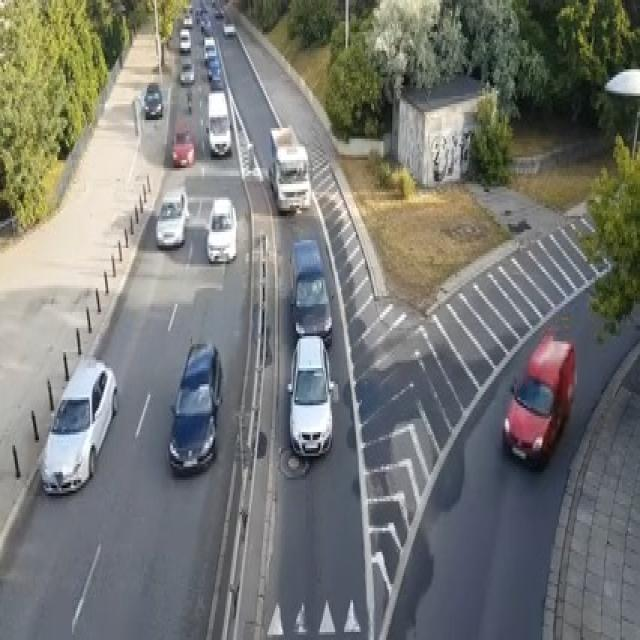car: (39, 355, 117, 493), (502, 328, 577, 467), (167, 338, 222, 474), (286, 333, 334, 456), (288, 237, 332, 344), (155, 189, 189, 248), (206, 195, 236, 261), (206, 88, 231, 157), (171, 126, 194, 166), (141, 83, 164, 117), (203, 35, 216, 64), (179, 58, 194, 82), (207, 56, 221, 80), (179, 27, 191, 50), (222, 16, 235, 35), (200, 13, 210, 32), (182, 10, 192, 27), (215, 8, 224, 19)
truck: (267, 123, 311, 213)
